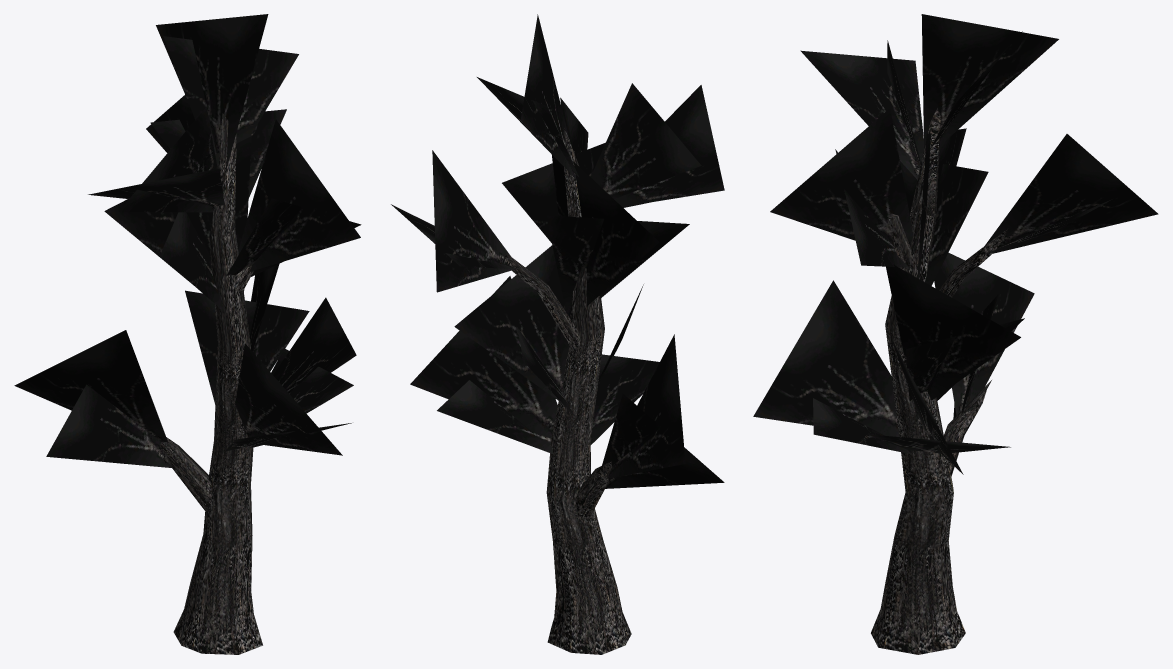
The model's file is tree910.glb.
The picture shows the model from 3 angles, left to right: view 1: azimuth 30°, elevation 25°; view 2: azimuth 150°, elevation 25°; view 3: azimuth 270°, elevation 25°; orthographic projection. The views are drawn at different scales.
Visible parts, largest first — view 1: tree910-col; view 2: tree910-col; view 3: tree910-col.
Part boxes in pixels (x1,y1,x2,y2): tree910-col: (14,14,361,654); tree910-col: (391,14,724,654); tree910-col: (753,14,1158,654).
Bounding box in the file's own units: 8.9 × 16.59 × 9.42.
Materials: 2 (2 with a texture image).
